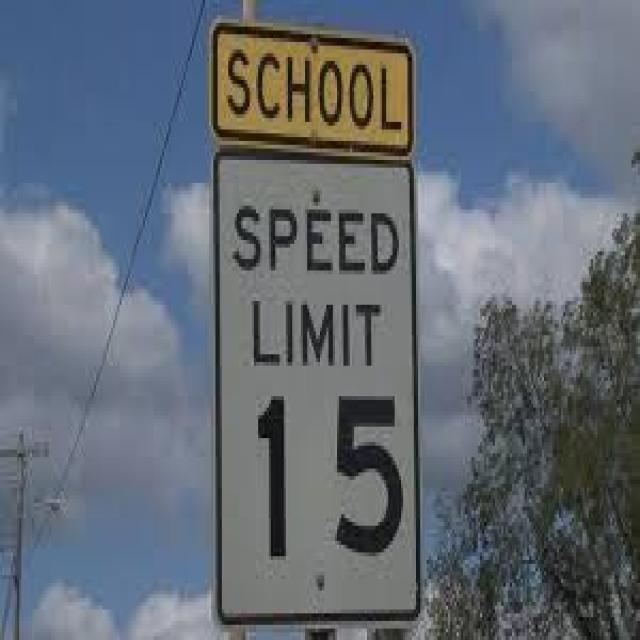speedLimit15: (212, 137, 422, 621)
